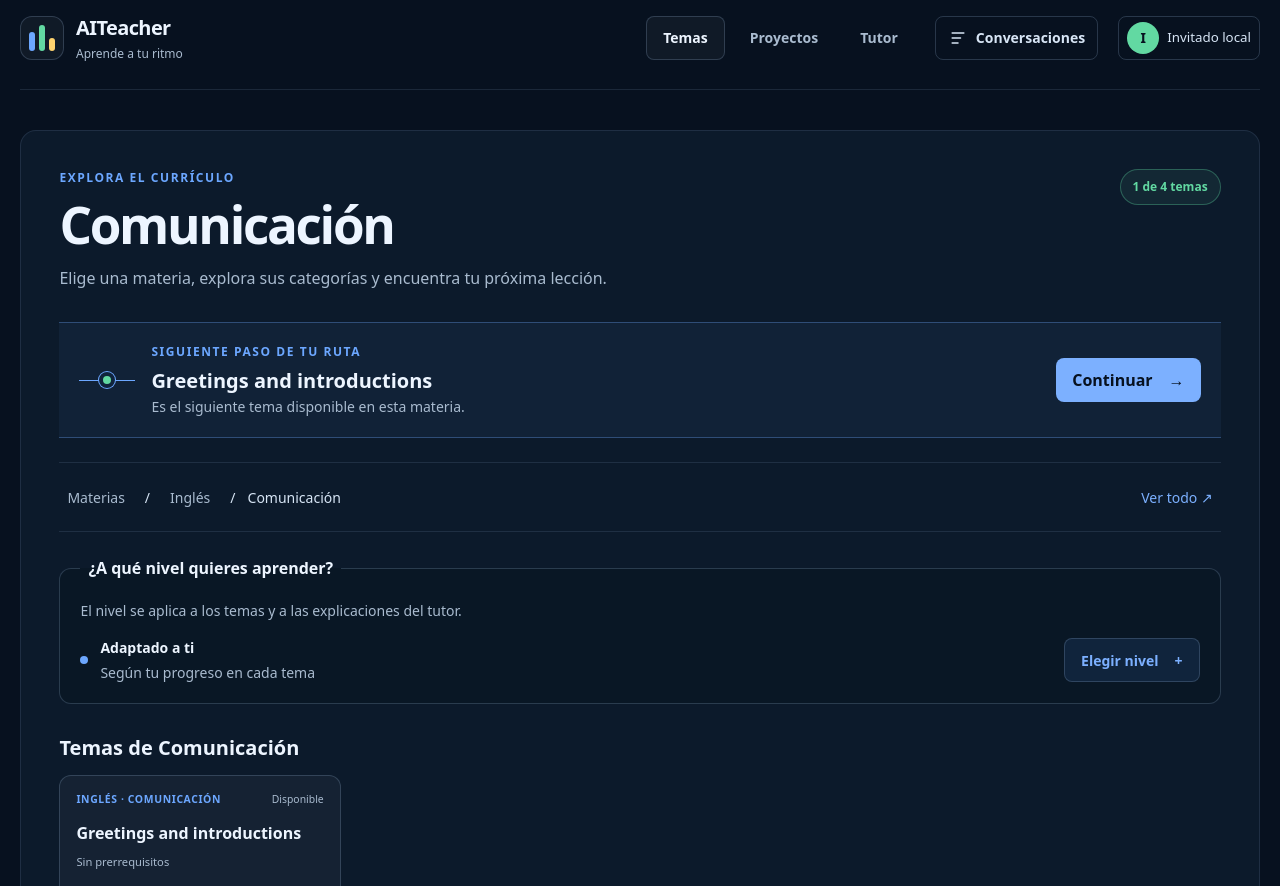
Test: CatalogScreen › deshabilita niveles sin contenido y permite regresar al nivel adaptativo
The image size is (1280, 886).
Check: the heading "Temas de Comunicación" is shown, box [59,734,299,761]
Click the button "Elegir nivel +" at (1132, 660), box [1064,638,1200,682]
(page scrolled)
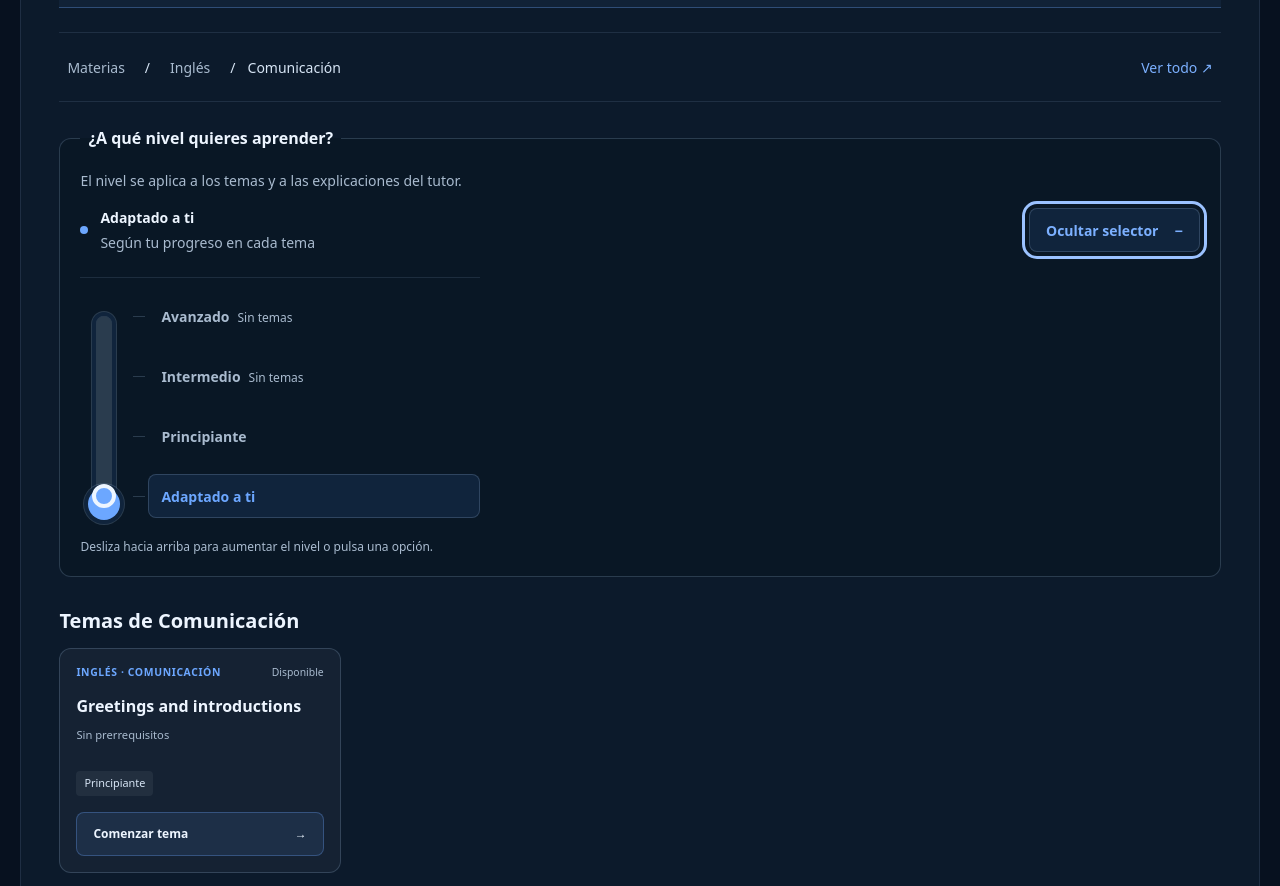
Check: the button "Intermedio" is disabled, box [148,354,480,398]
Check: the button "Avanzado" is disabled, box [148,294,480,338]
Click the button "Principiante" at (204, 436), box [148,414,480,458]
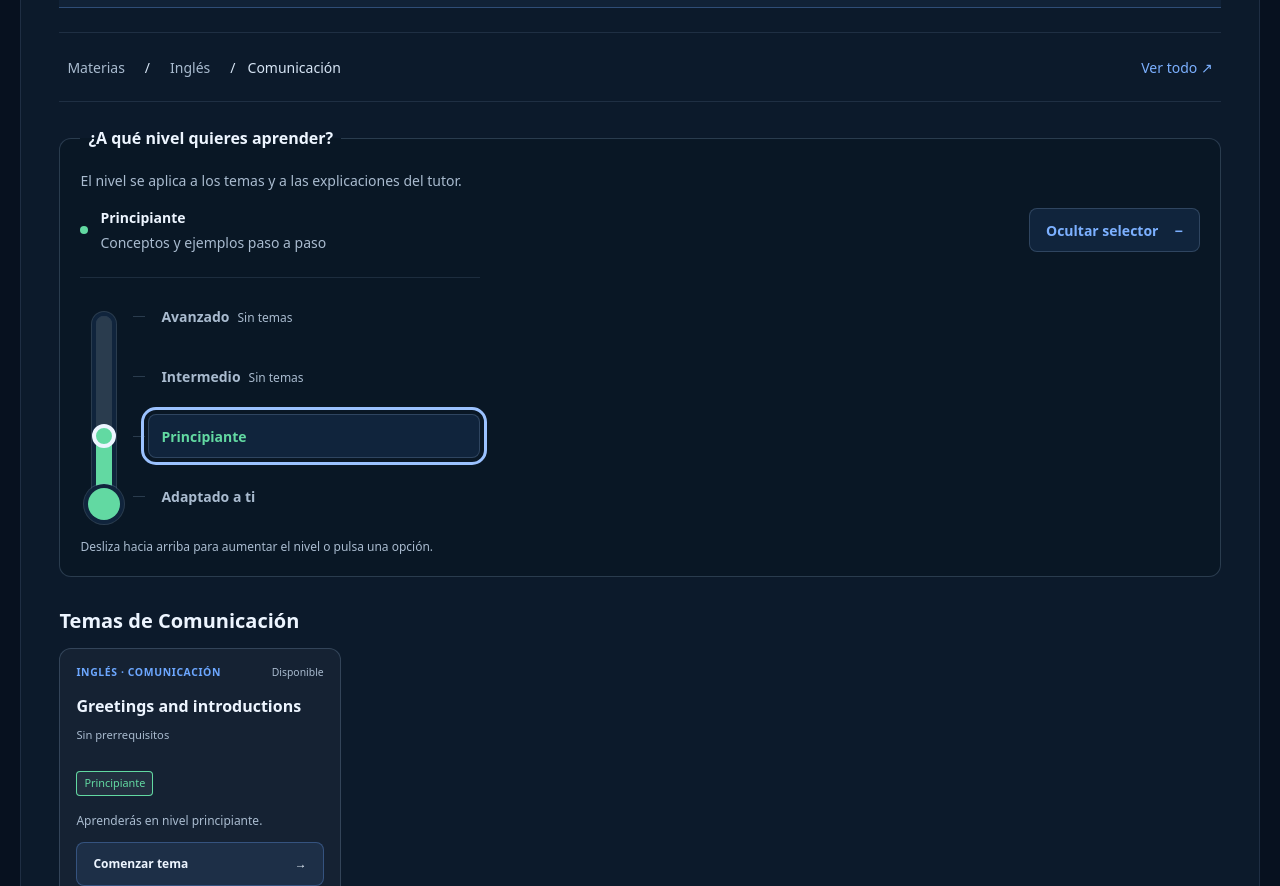
Click the button "Adaptado a ti" at (208, 496), box [148,474,480,518]
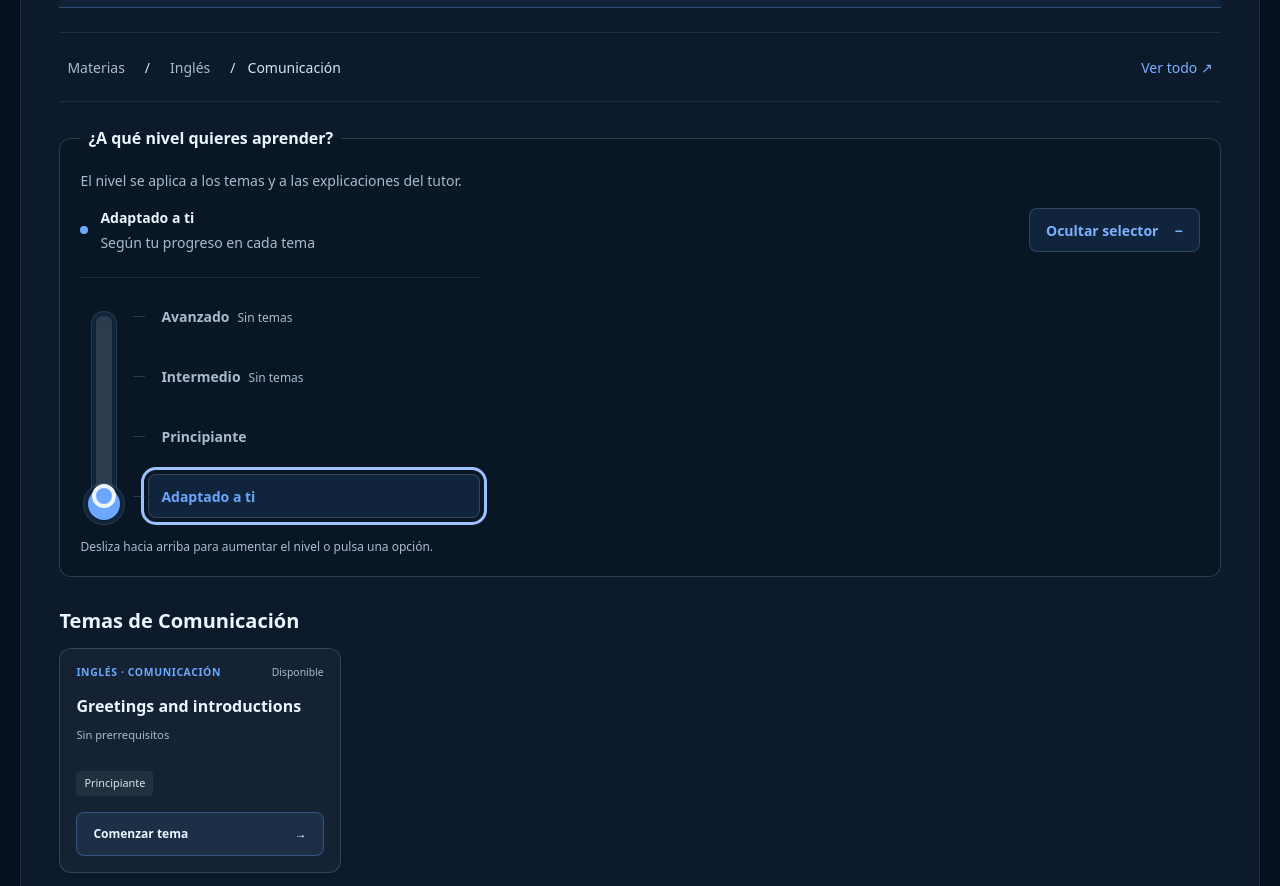
Click the button "Ocultar selector −" at (1114, 230), box [1029,208,1200,252]
(page scrolled)
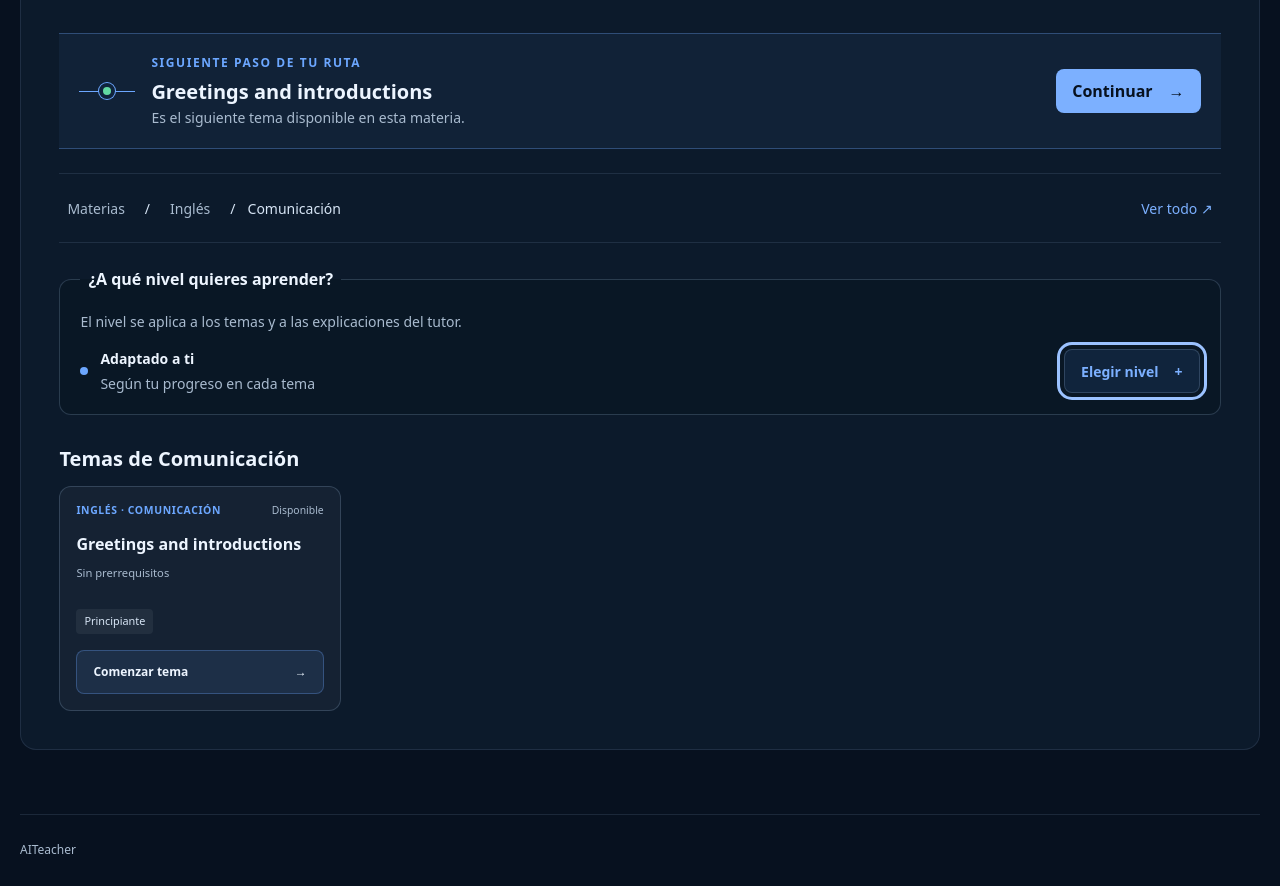
Check: the slider is gone
